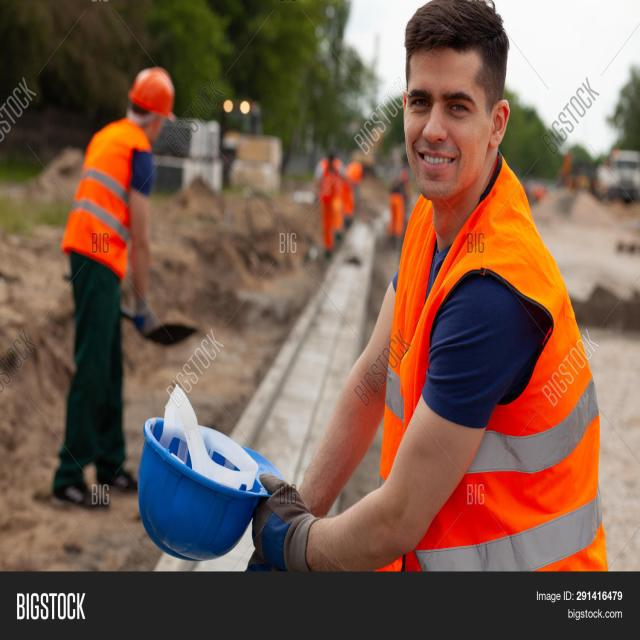Gloves: (246, 472, 313, 576)
Hard Hat: (136, 413, 294, 568), (127, 66, 177, 130)
Reflective Vest: (374, 156, 596, 574), (58, 114, 156, 288)
